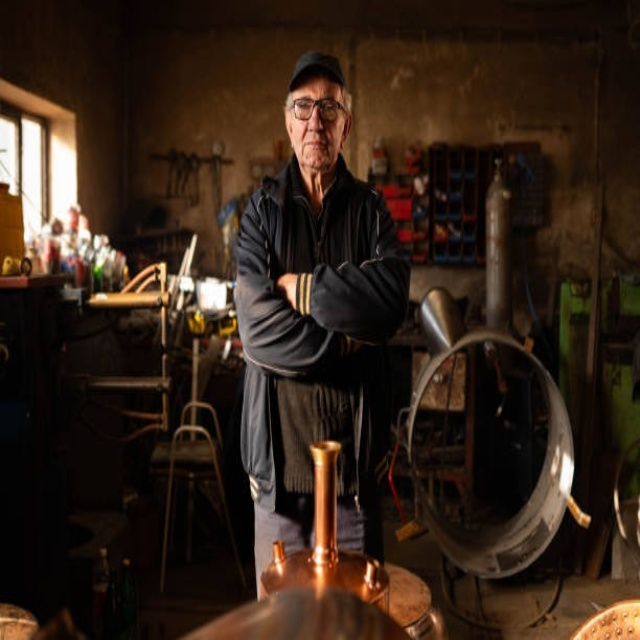Gafas: (287, 97, 347, 121)
Sin_guantes: (277, 271, 314, 315)
Sin_mascara: (301, 131, 329, 165)
